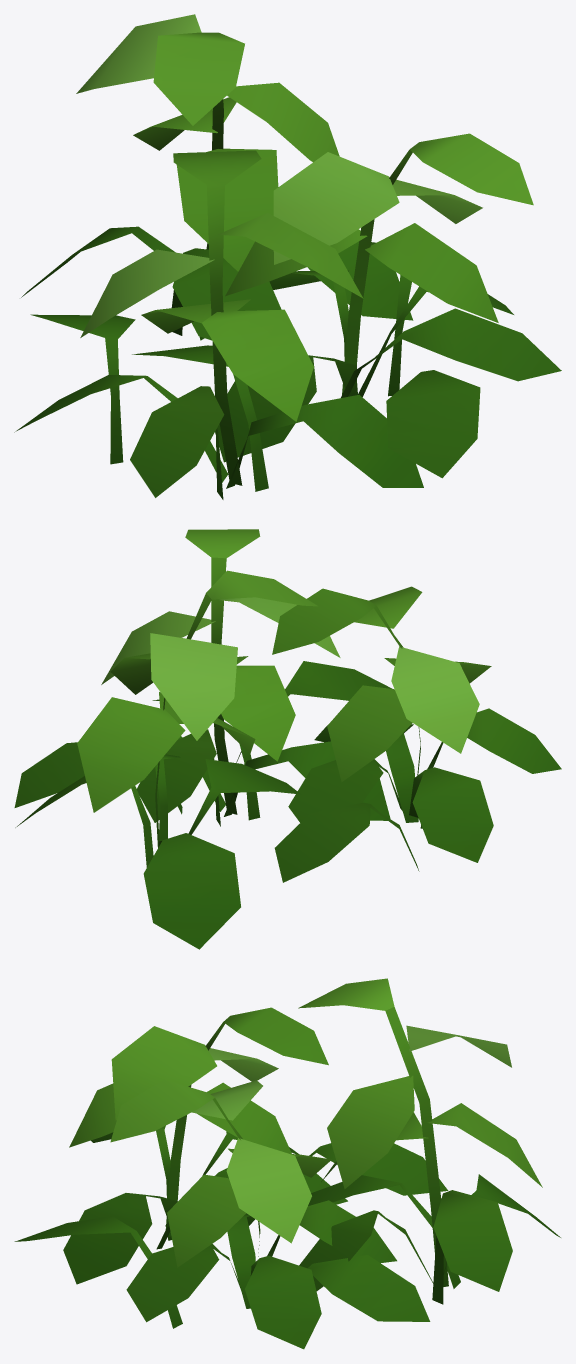
The model's file is SM_Generic_Plant_02.fbx.
The picture shows the model from 3 angles, top to bottom: view 1: azimuth 30°, elevation 25°; view 2: azimuth 150°, elevation 25°; view 3: azimuth 270°, elevation 25°; orthographic projection. The views are drawn at different scales.
Visible parts, largest first — view 1: SM_Generic_Plant_02; view 2: SM_Generic_Plant_02; view 3: SM_Generic_Plant_02.
Boxes of the visible parts, box(x1,y1,x2,y2) form: SM_Generic_Plant_02: box(14, 14, 561, 499); SM_Generic_Plant_02: box(14, 529, 561, 949); SM_Generic_Plant_02: box(14, 978, 560, 1349).
Size of the model in its own units: 1.96 by 1.32 by 2.26.
